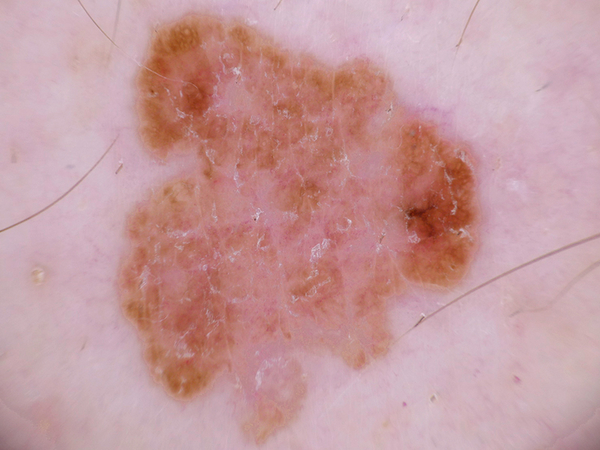Detected Lesion: (125, 7, 482, 440)
